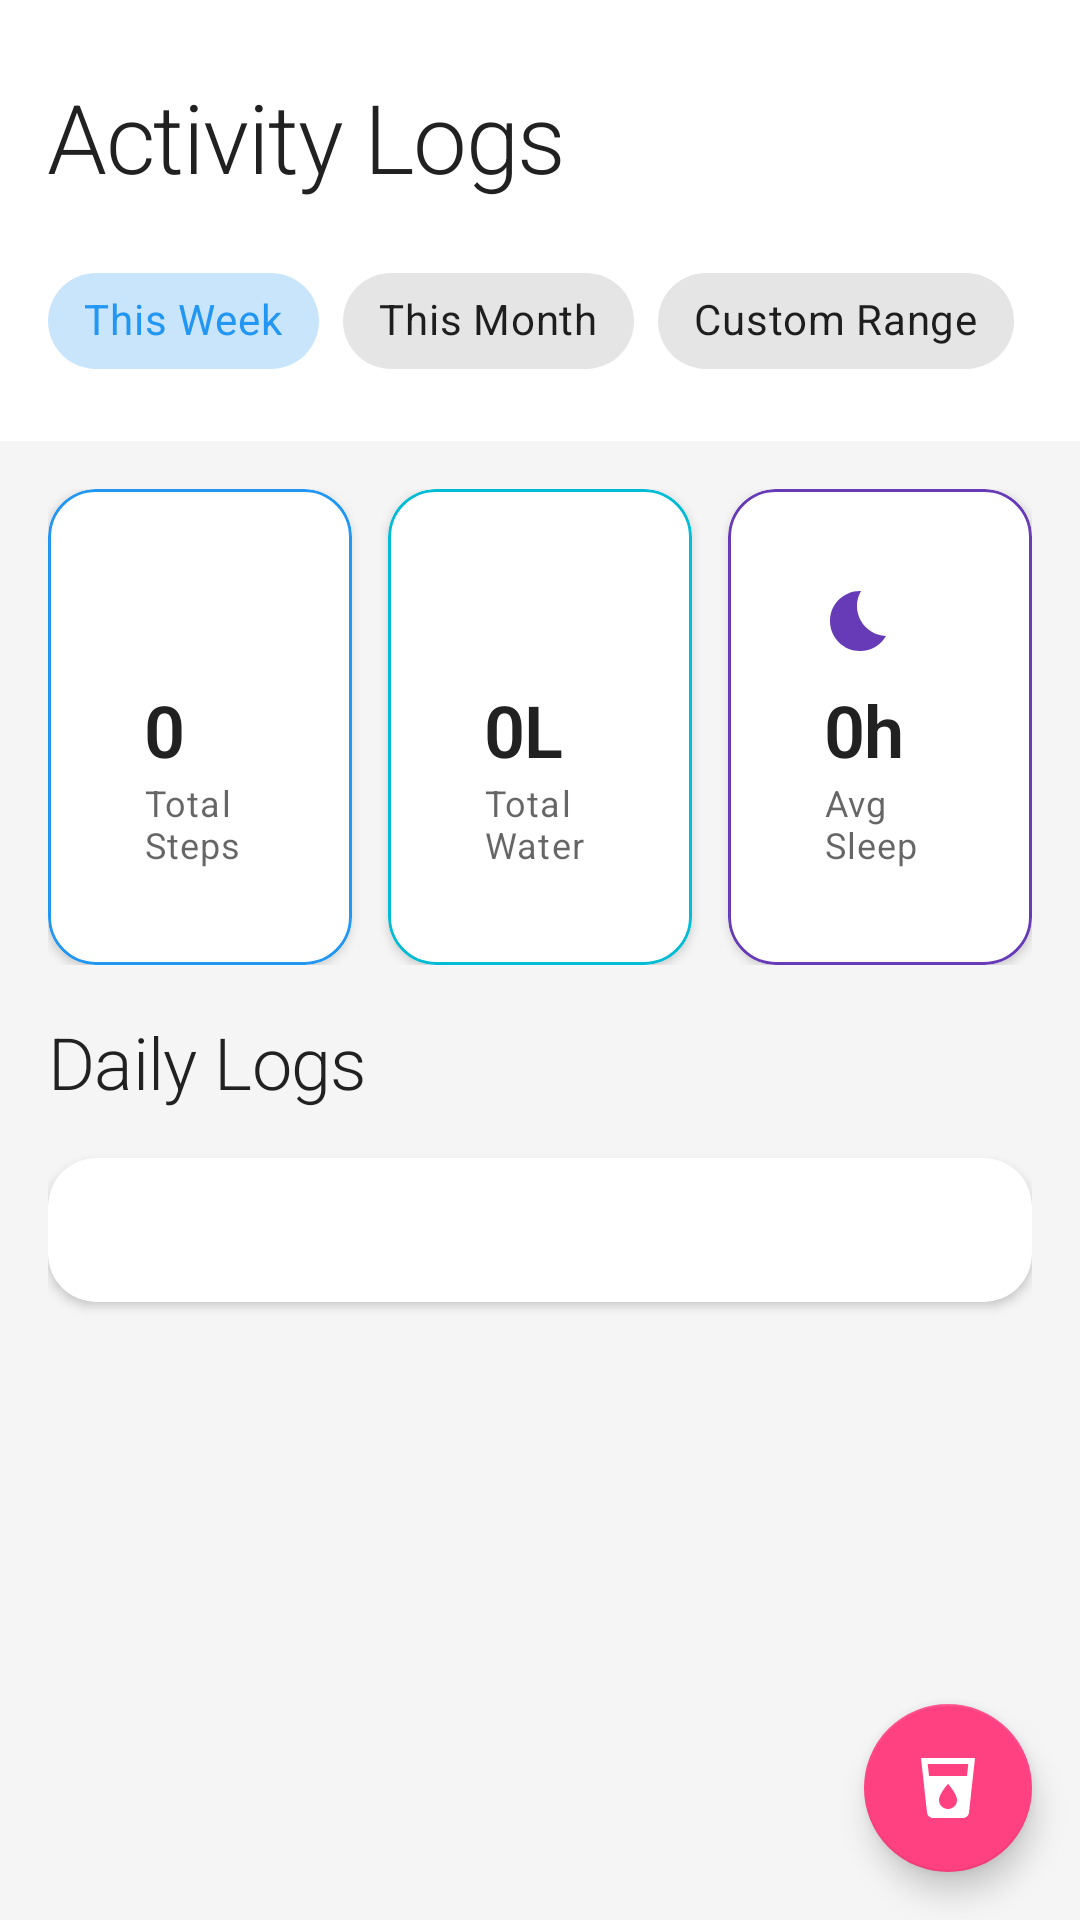

Icons on this 1080*1920 Android screen, each with its box as (x1=x1, y1=y1, x2=x2, y2=y2):
bedtime: (x1=830, y1=591, x2=886, y2=651)
local drink: (x1=864, y1=1704, x2=1032, y2=1872)
